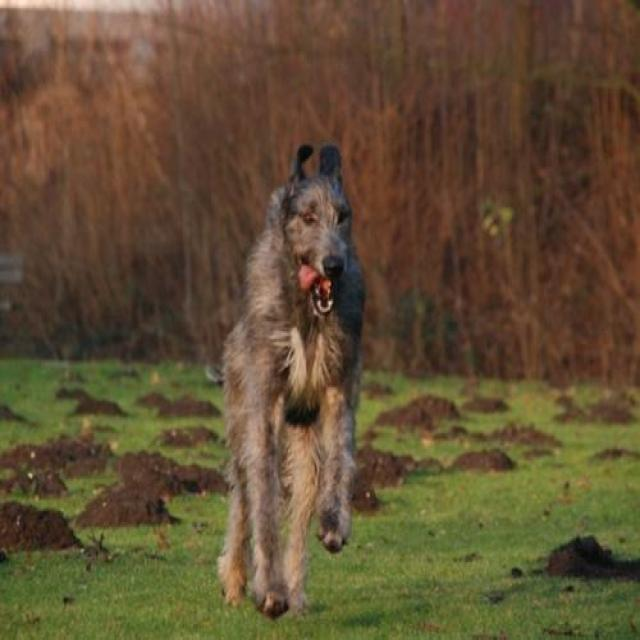irish_wolfhound: (210, 140, 367, 618)
